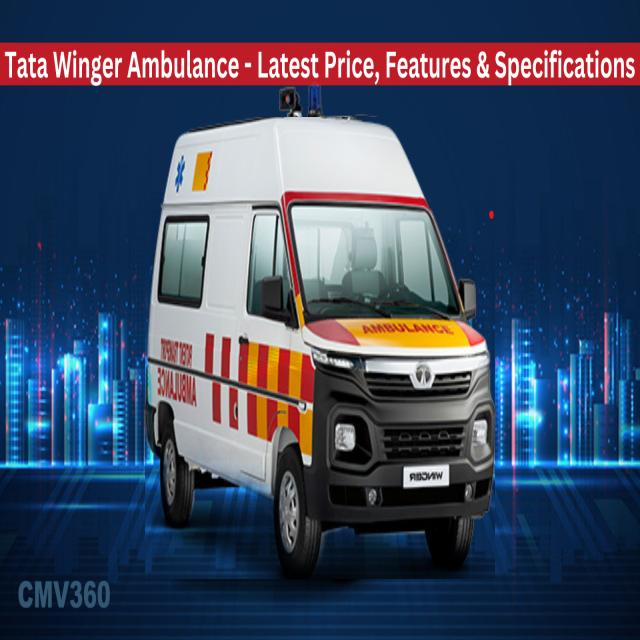emergency: (145, 118, 495, 579)
